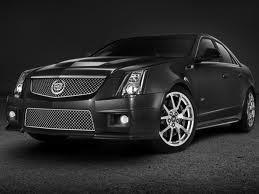car: (5, 29, 258, 153)
